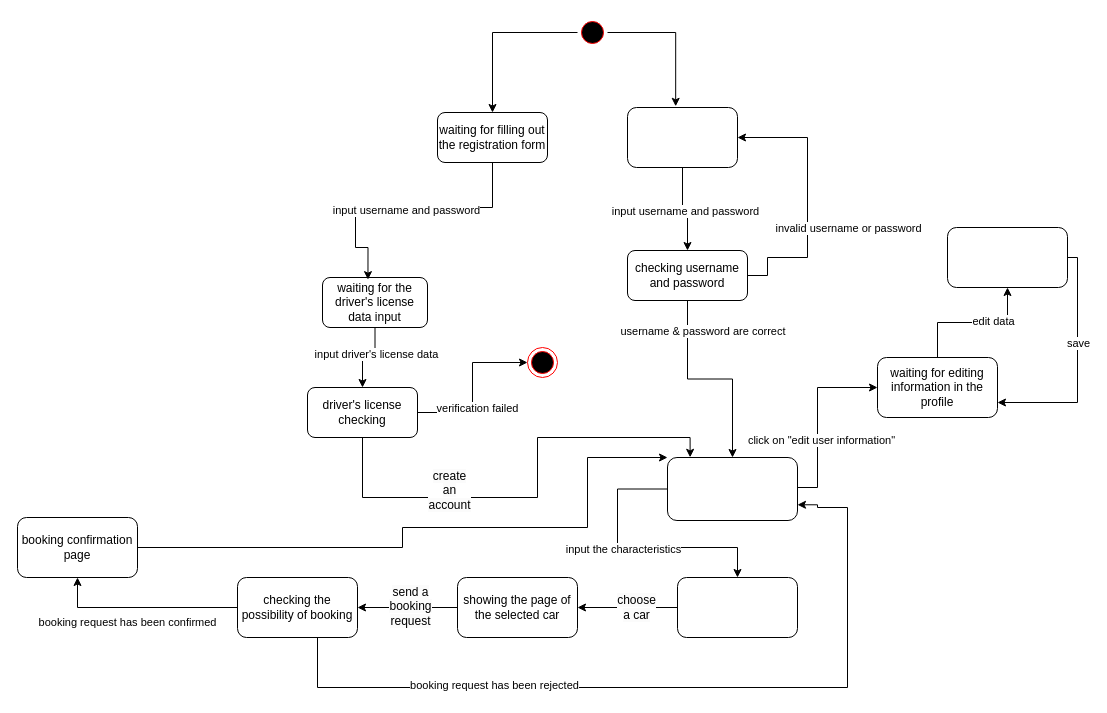
The diagram is 1107 pixels wide and 713 high, and some of its shapes have lost their labels. The shapes that lost their labels are listed below. From the top down, each one's box as (x1, y1, x2, y2) in pixels, then its label:
(626, 106, 738, 168): waiting for the user name and password to be entered
(946, 226, 1068, 288): waiting for saving
(666, 456, 798, 520): front page
(676, 576, 798, 638): displaying the search result
